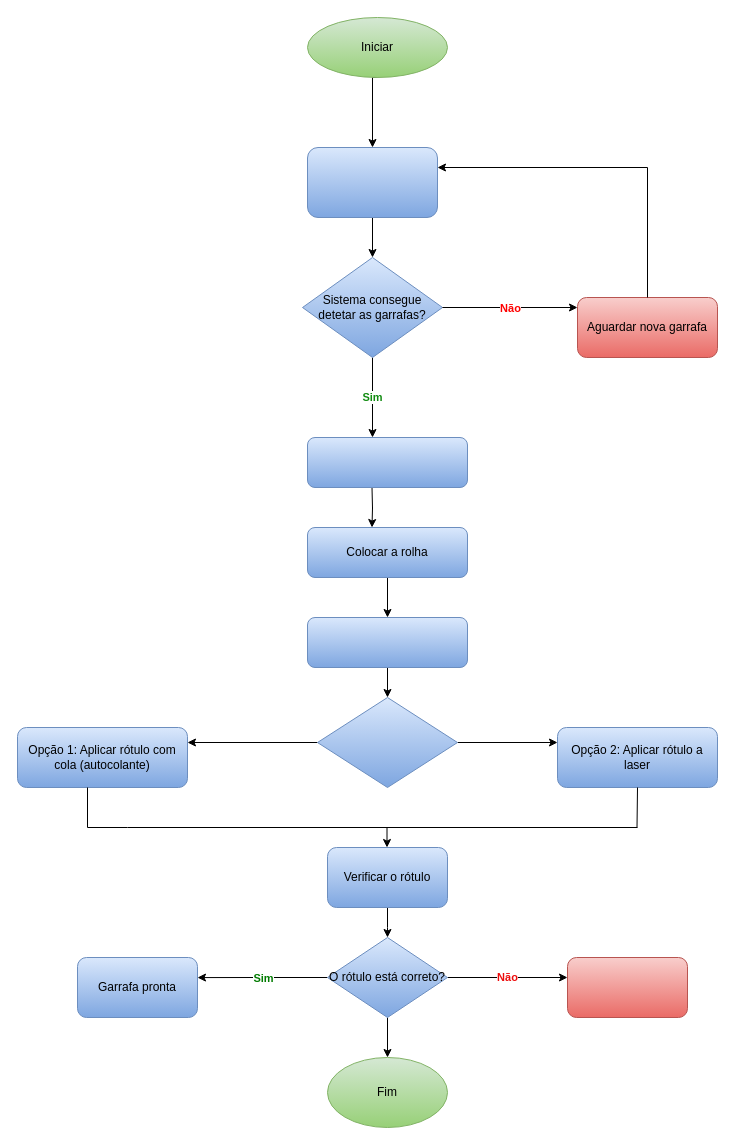
Some shapes in this 735 by 1145 pixel diagram are drawn without their labels. The centre of each missing label's shape, as x and y in pixels:
Aplicar rótulo personalizado: pixel 387 642
Assinalar o erro e parar o processo: pixel 627 987
Encher a garrafa: pixel 387 462
Processador começa por ligar o sistema operativo: pixel 372 182
Qual o tipo de rótulo escolhido?: pixel 387 742
